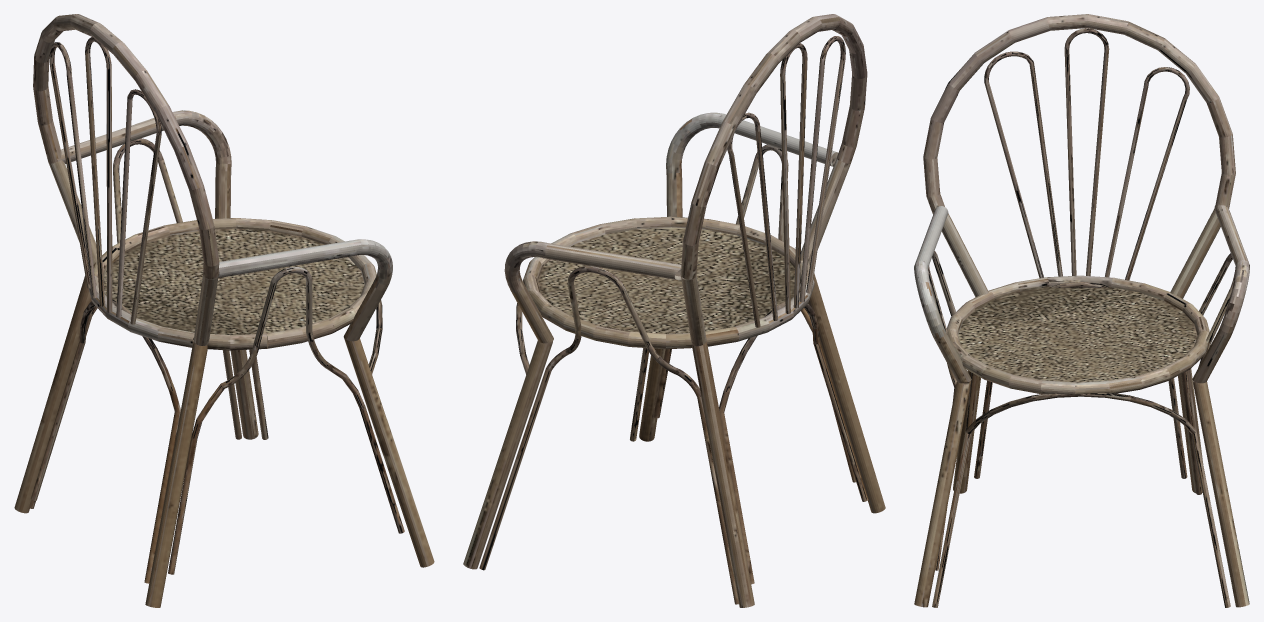
3 renders of one model, left to right at view 1: azimuth 30°, elevation 25°; view 2: azimuth 150°, elevation 25°; view 3: azimuth 270°, elevation 25°, orthographic. The views are drawn at different scales.
Visible parts, largest first — view 1: Node; view 2: Node; view 3: Node.
Boxes of the visible parts, left/top/right/bottom form: Node: left=14, top=14, right=434, bottom=607; Node: left=463, top=14, right=885, bottom=607; Node: left=914, top=14, right=1249, bottom=607.
Bounding box in the file's own units: 0.3813 × 0.7 × 0.4381.
Materials: 1 (1 with a texture image).
